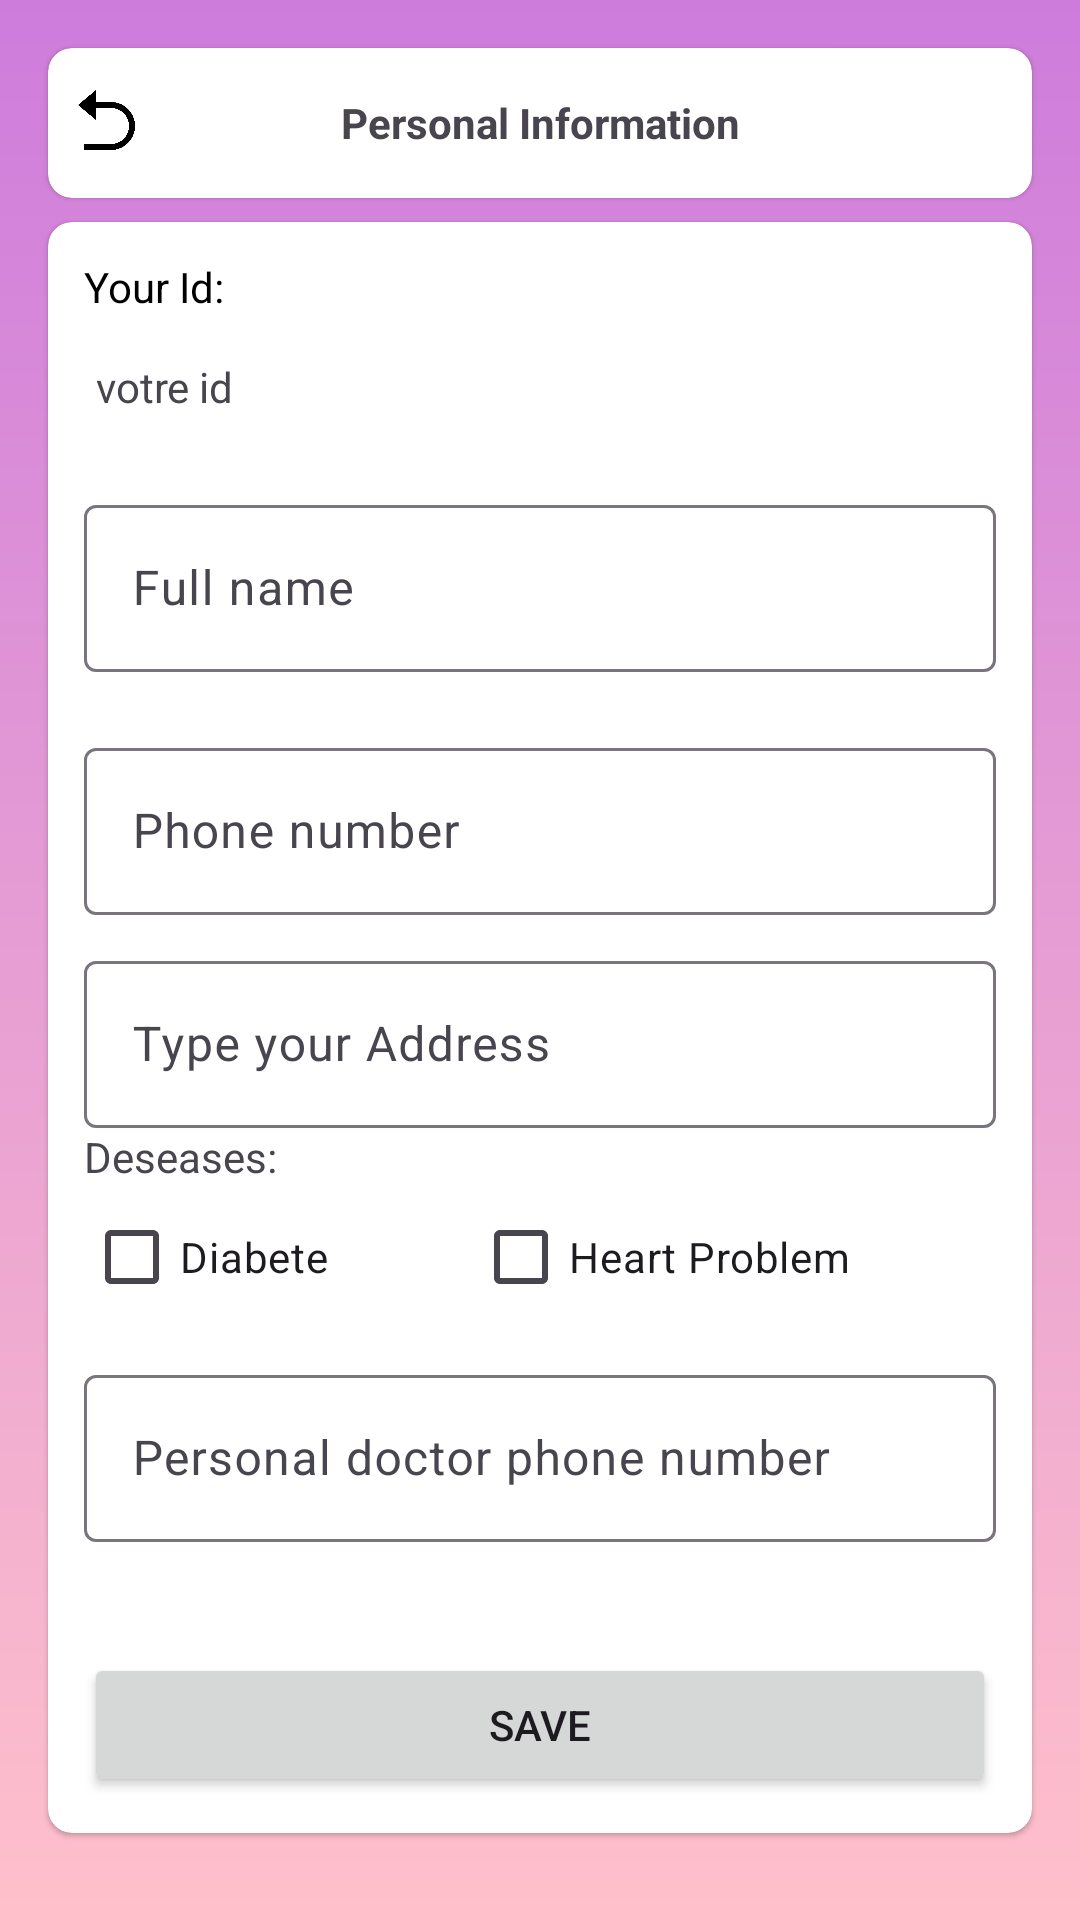

Where icons sit on this 1080x1920 app screen, as (x1, y1, x2, y2):
arraw back: (78, 90, 135, 150)
